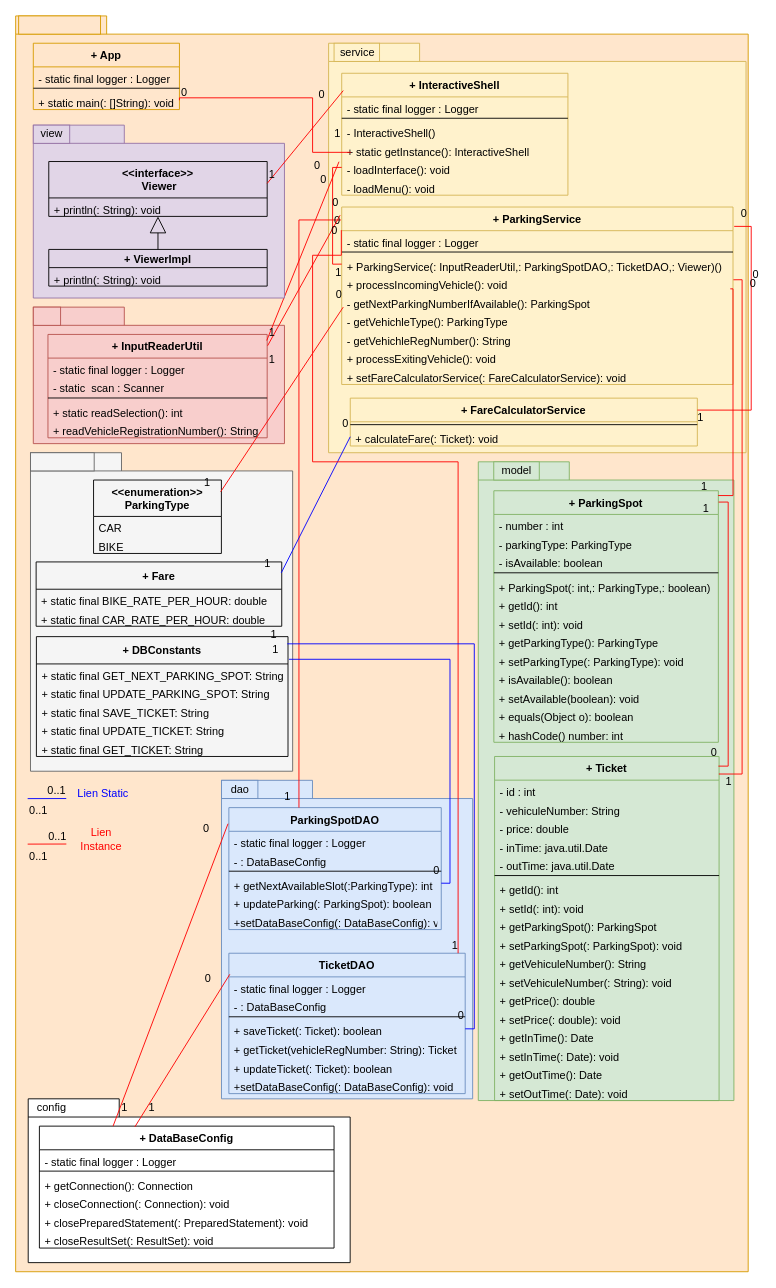
Image size: 776x1288. Some labels were removed from this diagram. Each missing label, with the centre of its shape:
constants: the point at 62,461
parkingsystem: the point at 59,24
util: the point at 46,315
